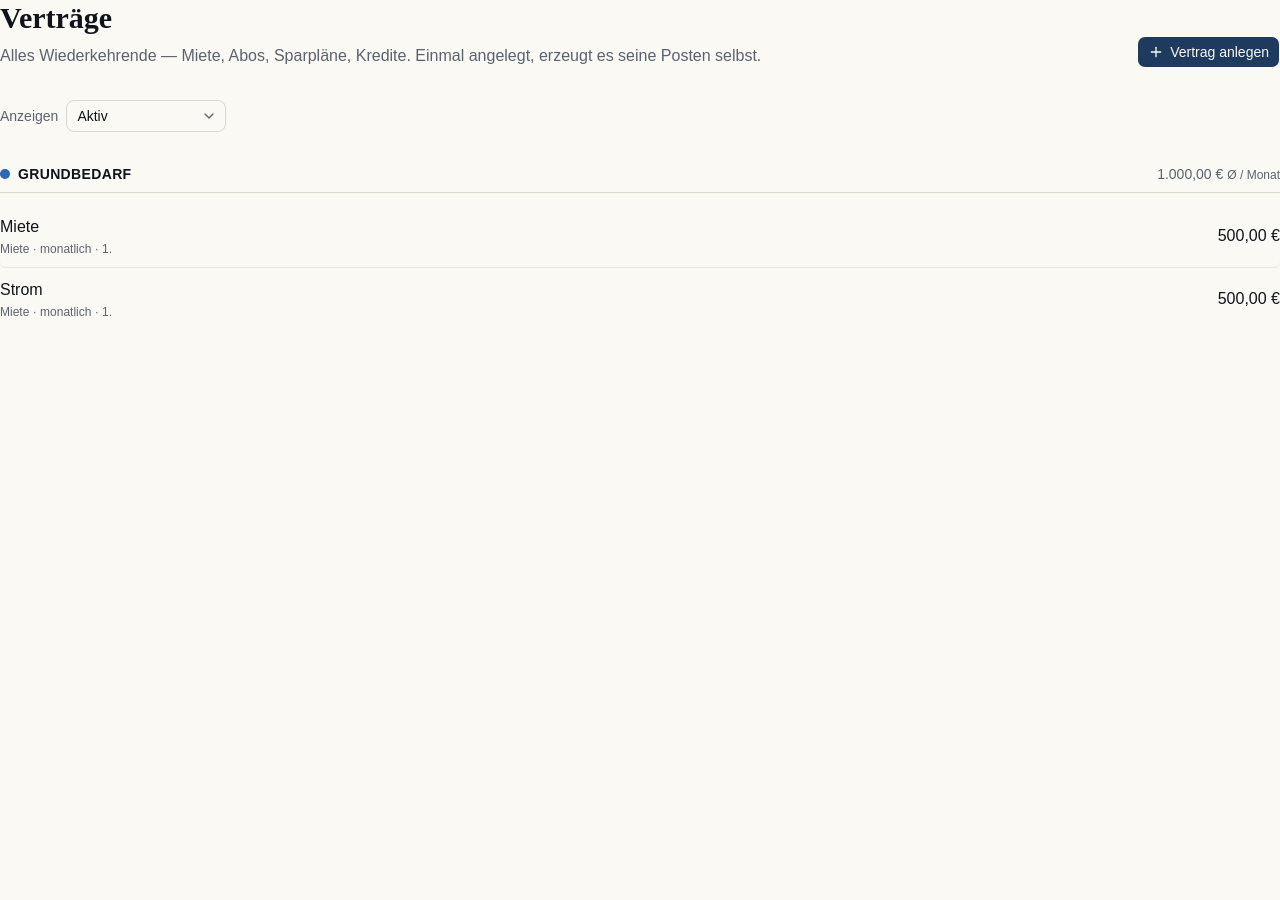
Scenario: CommitmentsPage › a row has no menu, and a click on it opens the edit dialog
Click the button "Miete Miete · monatlich · 1.". click: point(20, 226)
box: [0,215,1206,257]
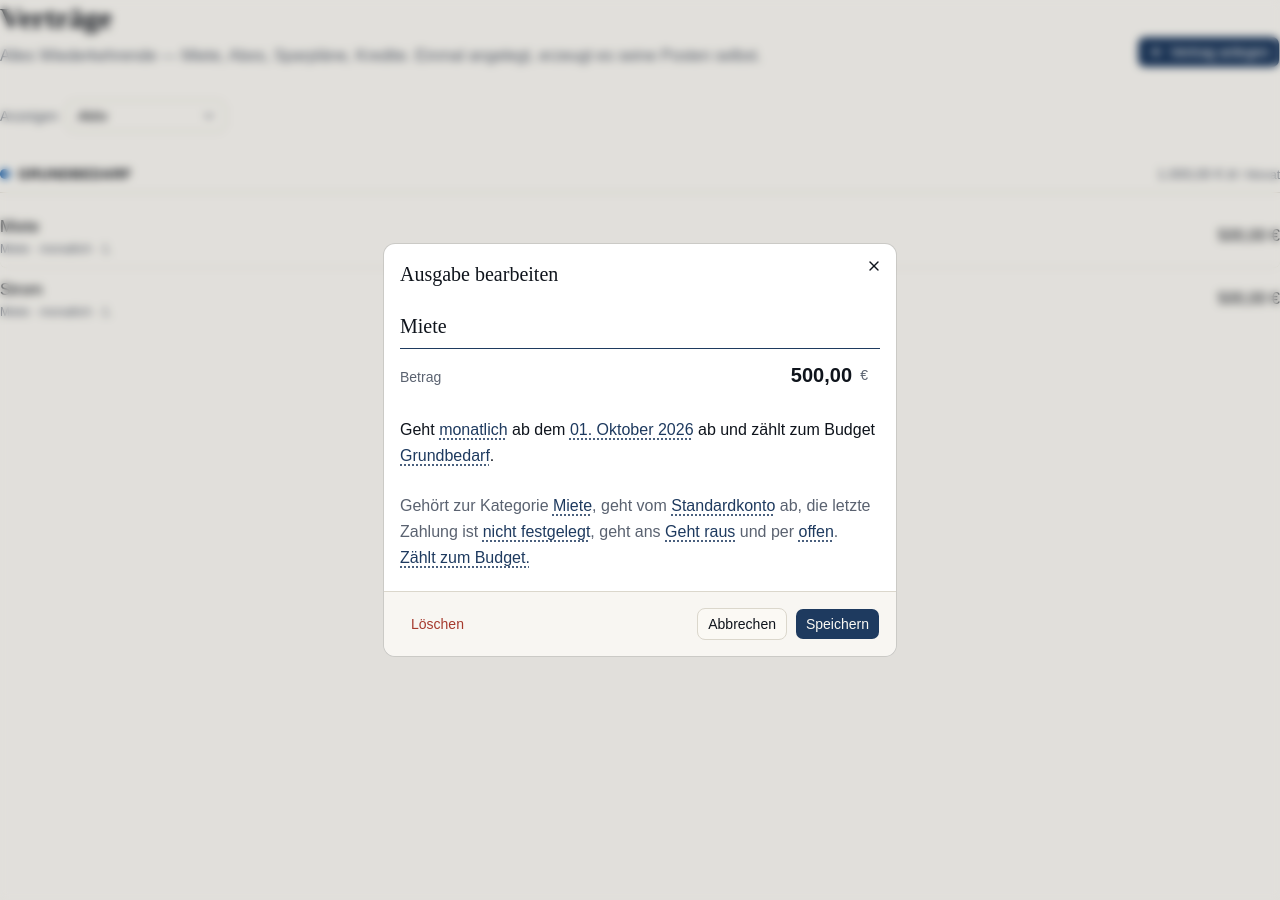
expect the dialog "Ausgabe bearbeiten" is shown: met, box [384,244,896,656]
